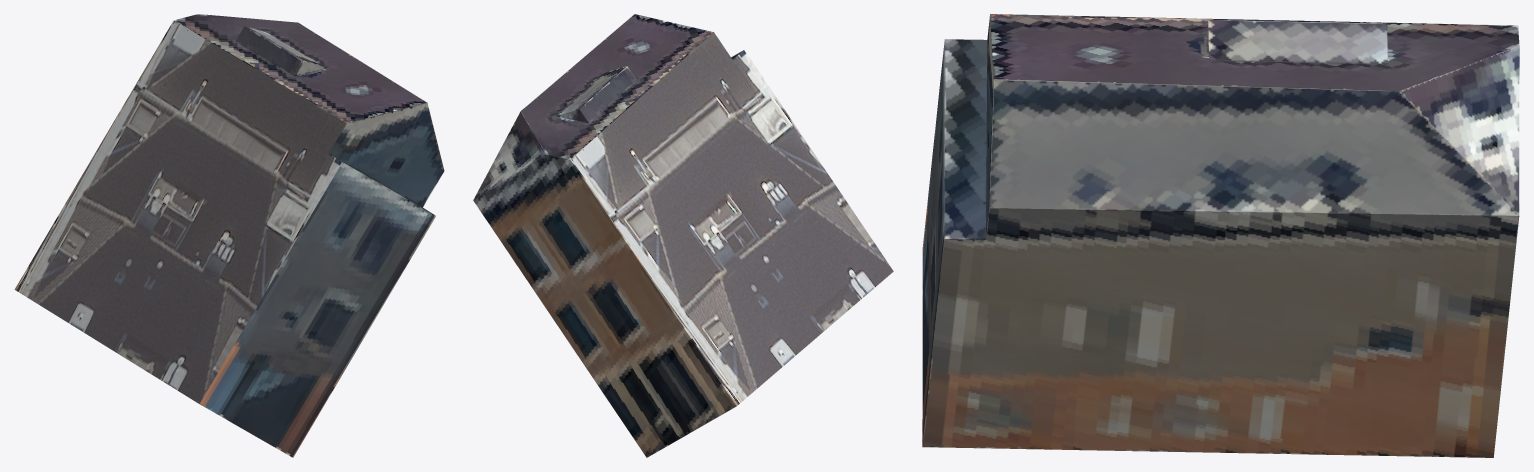
3 renders of one model, left to right at view 1: azimuth 30°, elevation 25°; view 2: azimuth 150°, elevation 25°; view 3: azimuth 270°, elevation 25°, orthographic. The views are drawn at different scales.
Parts seen in each view (by area): view 1: BAG_0599100000688754 (×4); view 2: BAG_0599100000688754 (×4); view 3: BAG_0599100000688754 (×4).
Part boxes in pixels (box(x1,y1,x2,y2)): BAG_0599100000688754 (×4): box(14, 14, 444, 457); BAG_0599100000688754 (×4): box(473, 14, 893, 457); BAG_0599100000688754 (×4): box(922, 14, 1519, 457).
Size of the model in its own units: 11.3 by 12.56 by 12.98.
1 material, 1 textured.
